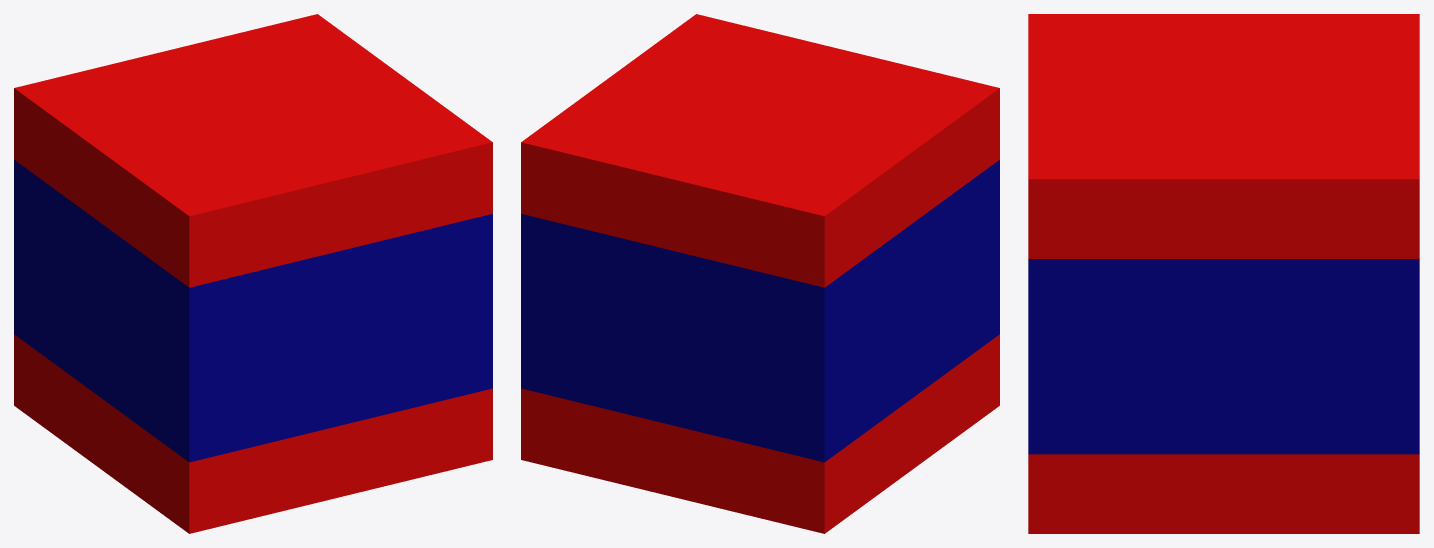
Rendered from Mario_Block.fbx.
The picture shows the model from 3 angles, left to right: view 1: azimuth 30°, elevation 25°; view 2: azimuth 150°, elevation 25°; view 3: azimuth 270°, elevation 25°; orthographic projection. The views are drawn at different scales.
Parts seen in each view (by area): view 1: Mario_Block:Mesh; view 2: Mario_Block:Mesh; view 3: Mario_Block:Mesh.
Part boxes in pixels (x1,y1,x2,y2): Mario_Block:Mesh: [14, 14, 492, 533]; Mario_Block:Mesh: [521, 14, 999, 533]; Mario_Block:Mesh: [1028, 14, 1419, 533].
Bounding box in the file's own units: 4 × 4 × 4.
Materials: 1 (1 with a texture image).
